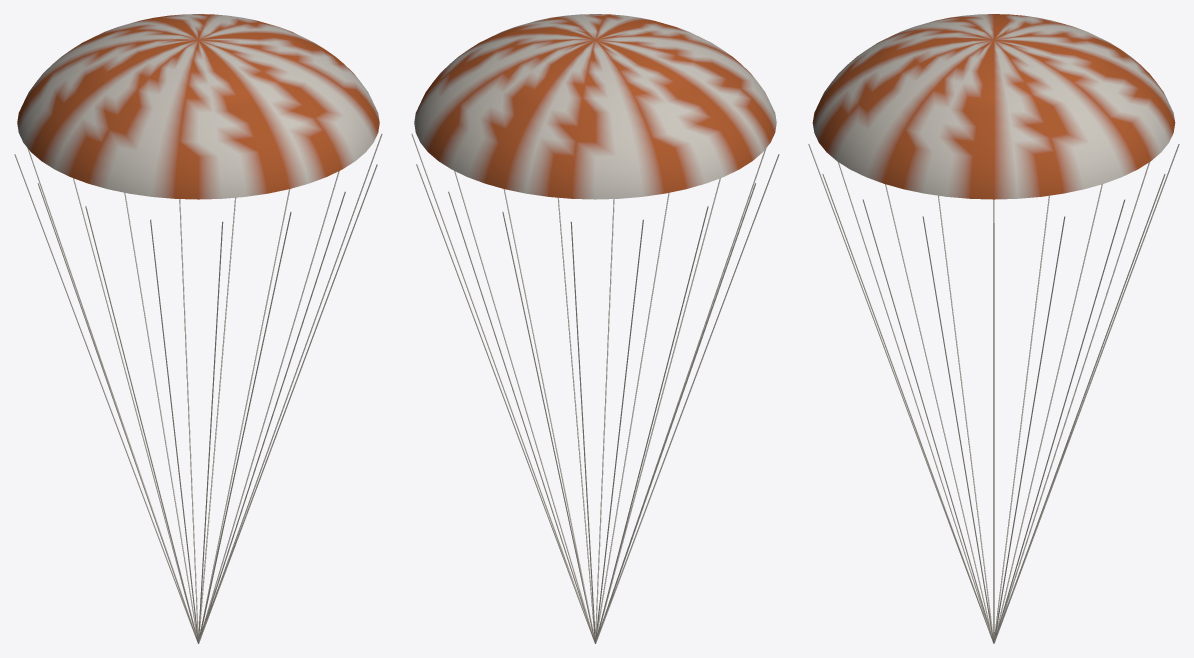
The model's file is parachute.glb.
3 renders of one model, left to right at view 1: azimuth 30°, elevation 25°; view 2: azimuth 150°, elevation 25°; view 3: azimuth 270°, elevation 25°, orthographic.
Visible parts, largest first — view 1: parachute; view 2: parachute; view 3: parachute.
Part boxes in pixels (x1,y1,x2,y2): parachute: (14, 14, 382, 643); parachute: (411, 14, 779, 643); parachute: (808, 14, 1179, 643).
Bounding box in the file's own units: 21.56 × 38.68 × 21.57.
